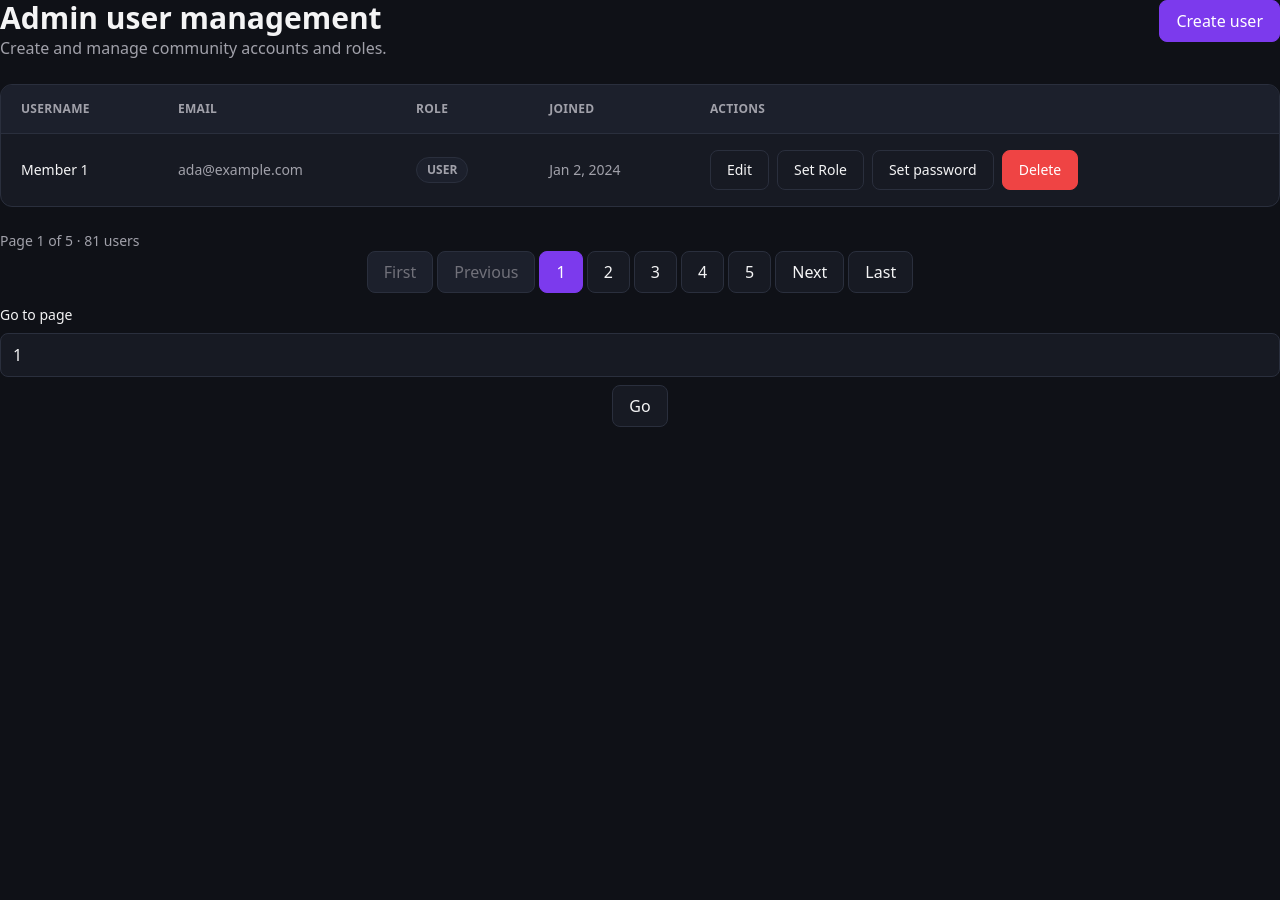
Test case: pagination at the component API boundary › moves admin directly to the new last page when several pages disappear
Expected: the text "Member 1" is shown, [1,134,158,206]
Click the button with aria-label "Last page" at (881, 272), box [848,251,913,293]
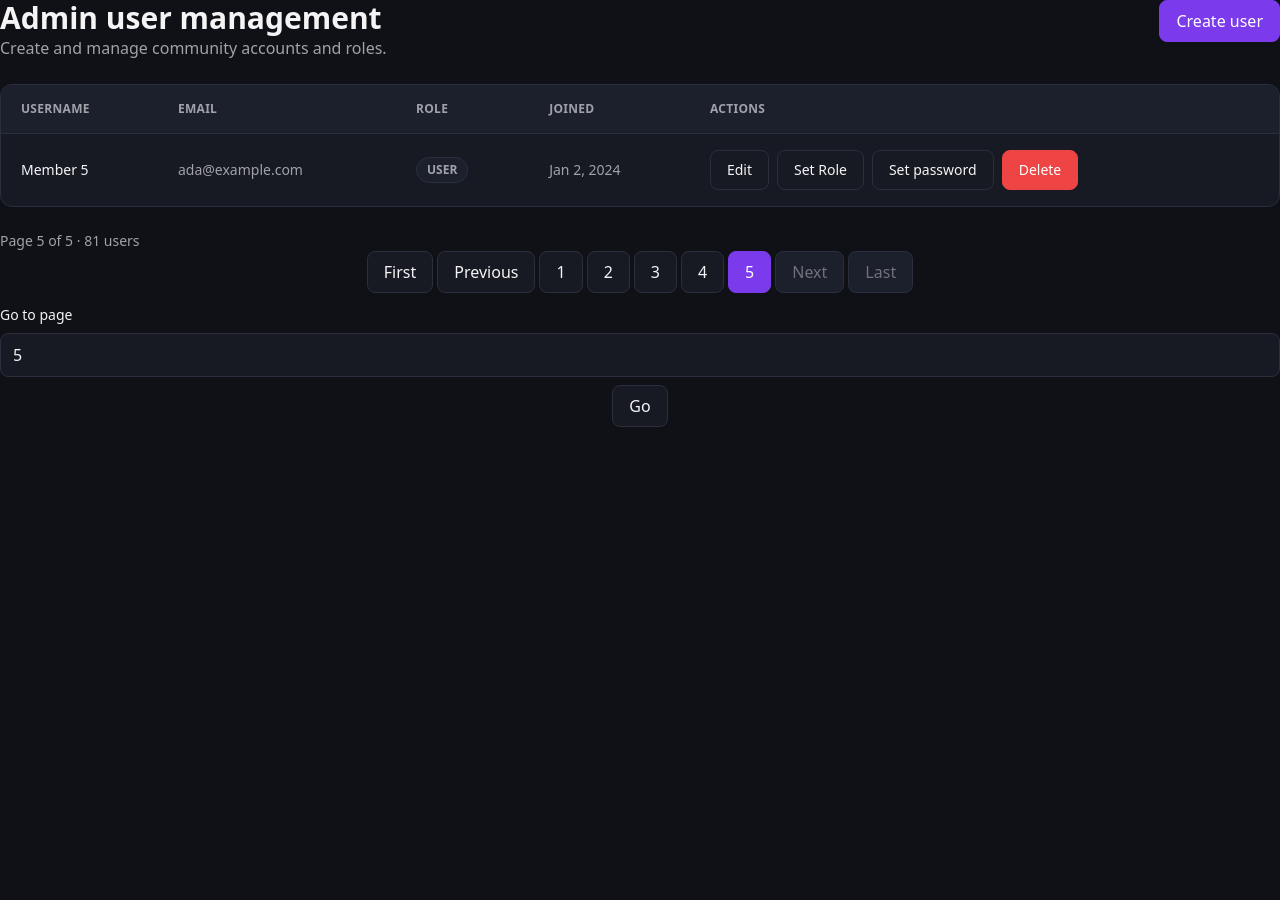
Result: the text "Member 5" is shown at [1,134,158,206]
Click the button with aria-label "Delete Member 5" at (1040, 170), box [1002,150,1078,190]
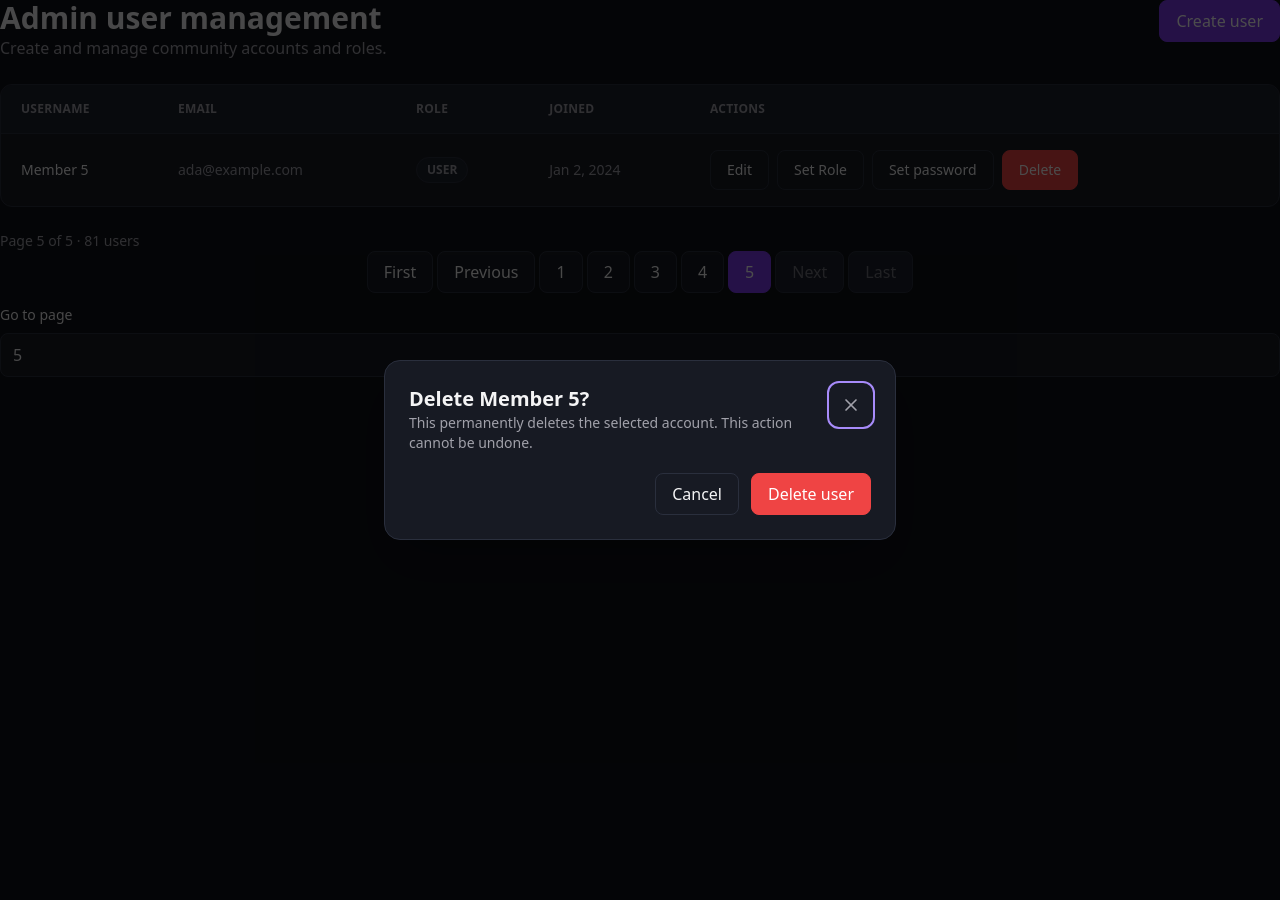
Click the button "Delete user" at (811, 494), box [751,473,871,515]
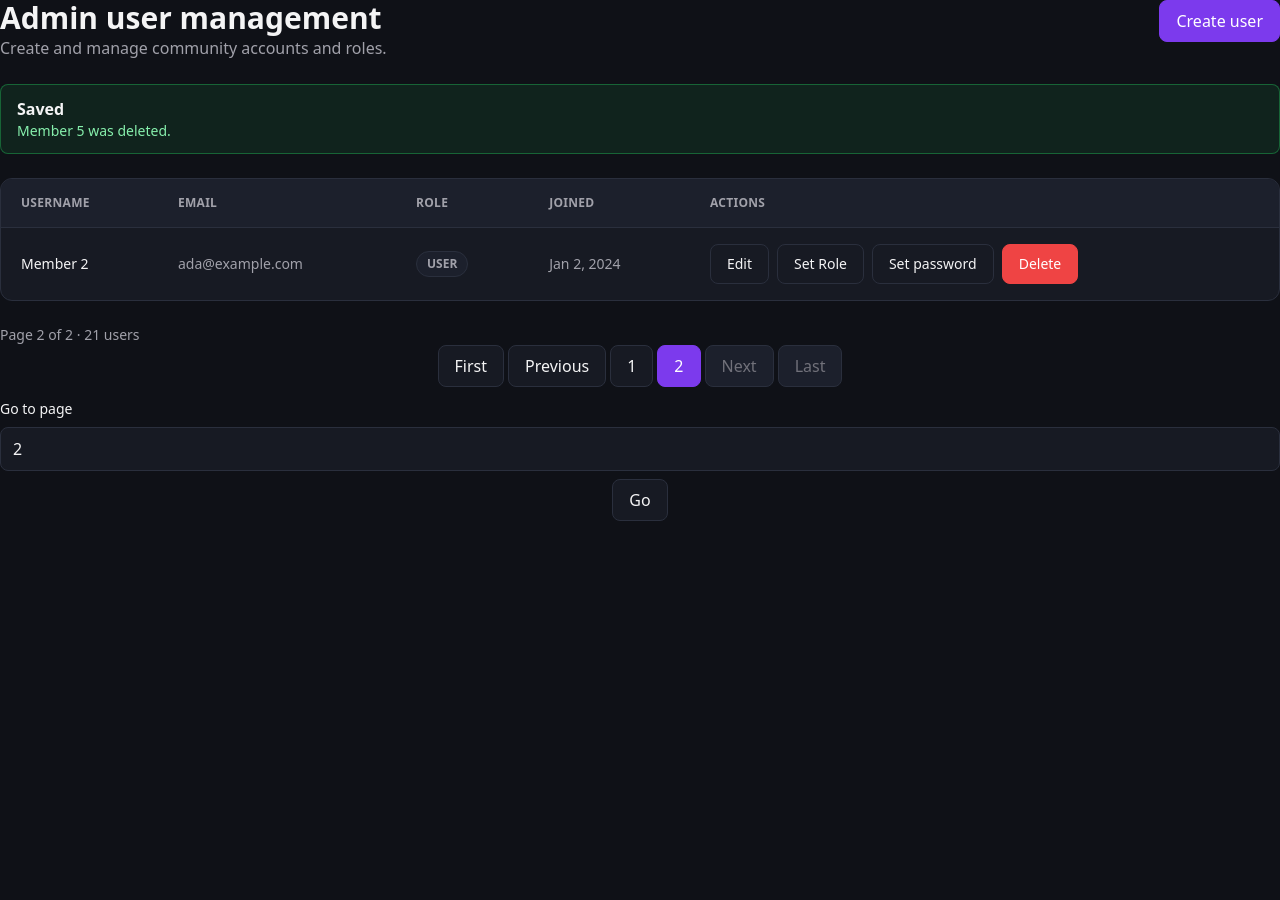
Expected: the button named "Page 2" is shown, [657,345,701,387]
Result: the text "Member 2" is shown at [1,228,158,300]
